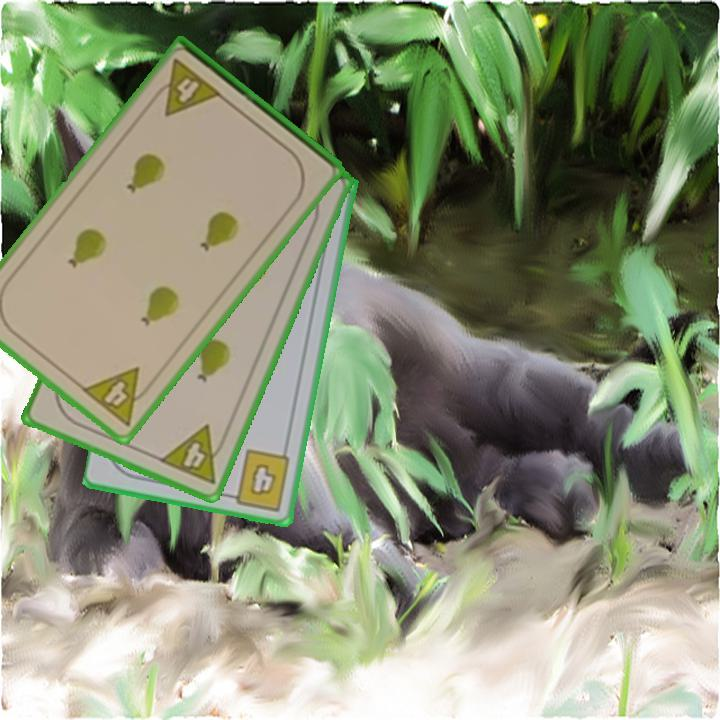4b: (223, 446, 293, 514)
4p: (78, 363, 158, 429), (147, 55, 225, 120), (156, 421, 231, 488)
